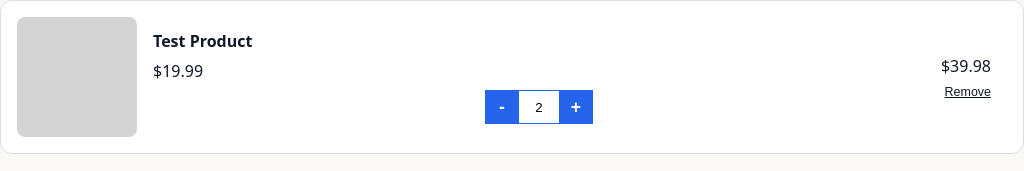
it: CartItem › updates the parent when the quantity changes
Clear the field at (539,107), box [519,90,559,124]
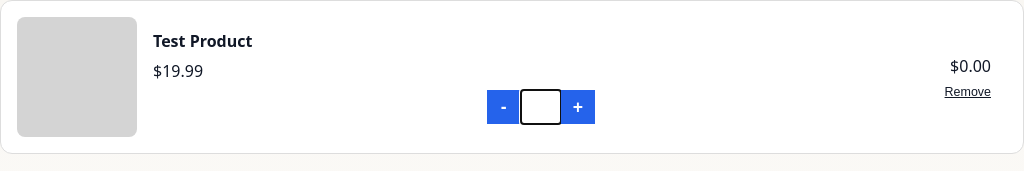
Type "4" into the field at (541,107), box [521,90,561,124]
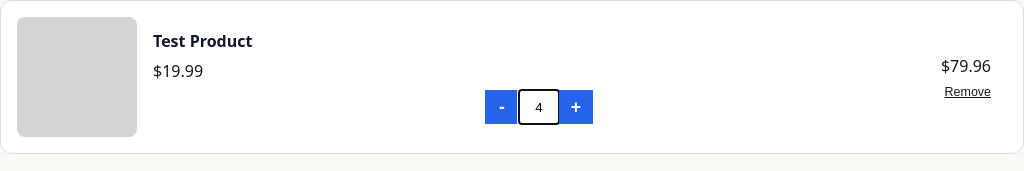
Check: the text "$79.96" is shown, box [941,55,991,77]
